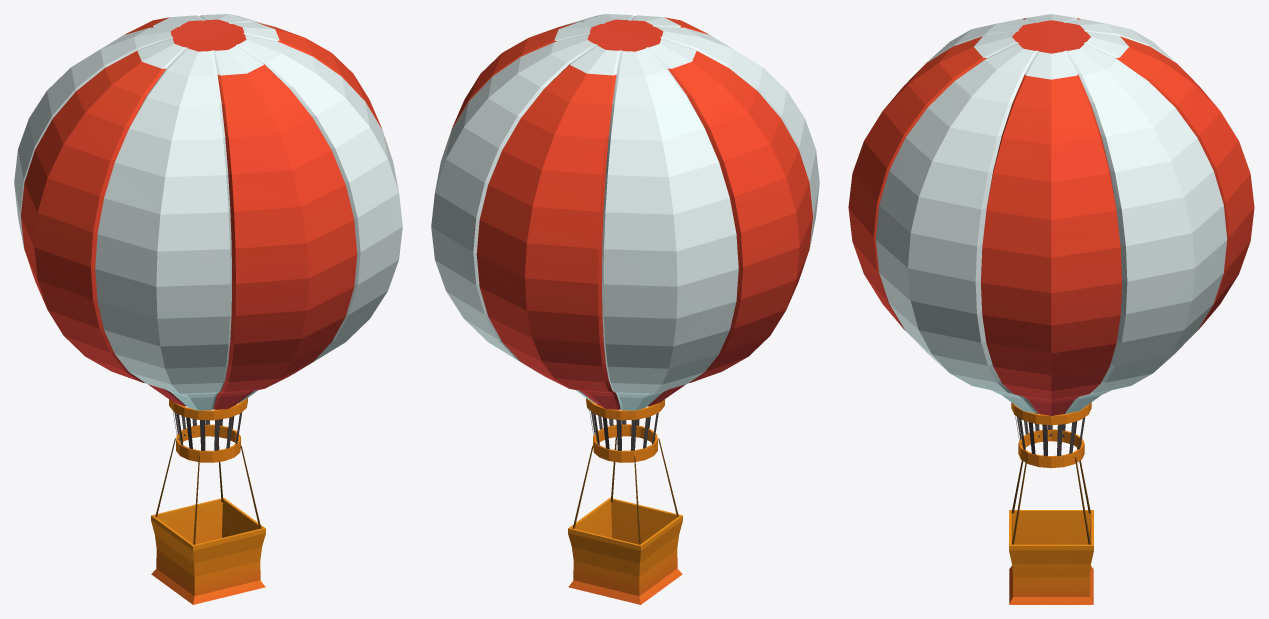
The model's file is Balloon_1.fbx.
The picture shows the model from 3 angles, left to right: view 1: azimuth 30°, elevation 25°; view 2: azimuth 150°, elevation 25°; view 3: azimuth 270°, elevation 25°; orthographic projection.
Visible parts, largest first — view 1: Balloon_1; view 2: Balloon_1; view 3: Balloon_1.
Part boxes in pixels (x1=…): Balloon_1: x1=14, y1=14, x2=402, y2=604; Balloon_1: x1=431, y1=14, x2=819, y2=604; Balloon_1: x1=848, y1=14, x2=1254, y2=604.
Bounding box in the file's own units: 4.92 × 7.36 × 4.92.
